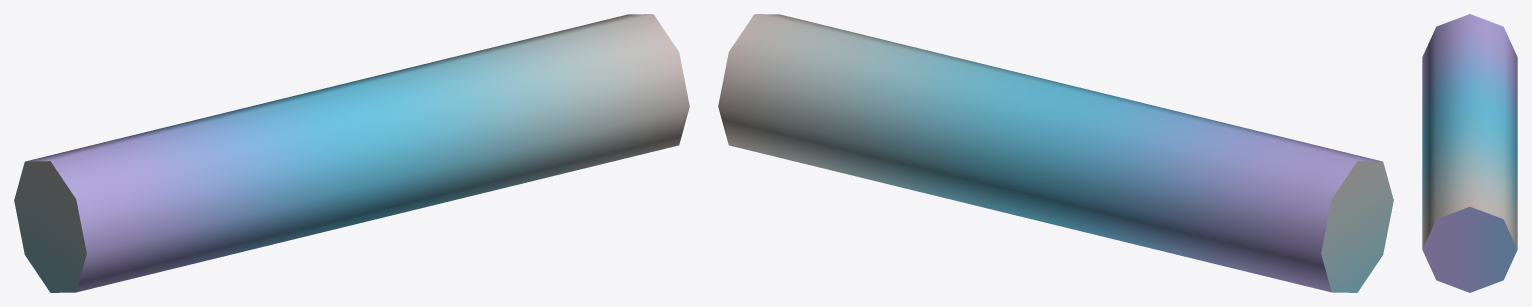
File: playground_cylinderpp1.FBX
The picture shows the model from 3 angles, left to right: view 1: azimuth 30°, elevation 25°; view 2: azimuth 150°, elevation 25°; view 3: azimuth 270°, elevation 25°; orthographic projection. The views are drawn at different scales.
Visible parts, largest first — view 1: Cylinder001; view 2: Cylinder001; view 3: Cylinder001.
Part boxes in pixels (left/top/right/bottom): Cylinder001: left=14, top=14, right=689, bottom=292; Cylinder001: left=718, top=14, right=1393, bottom=292; Cylinder001: left=1422, top=14, right=1517, bottom=292.
Size of the model in its own units: 69.3 by 14.48 by 14.48.
